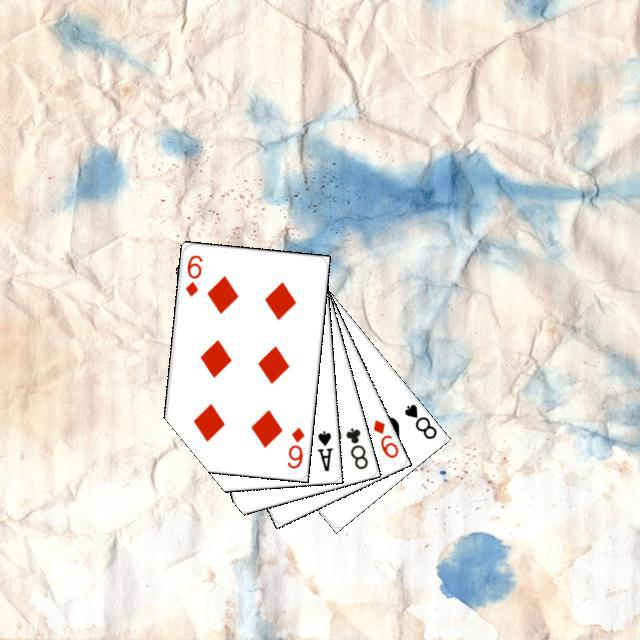6d: (282, 422, 306, 470), (181, 250, 204, 298)
8c: (341, 423, 370, 471)
8s: (399, 399, 439, 441)
9d: (368, 414, 400, 460)
As: (312, 426, 335, 473)
